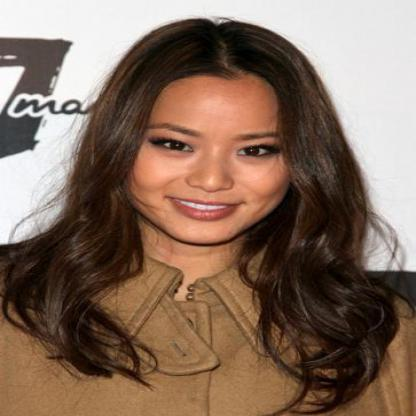long-hair: (40, 244, 367, 278)
